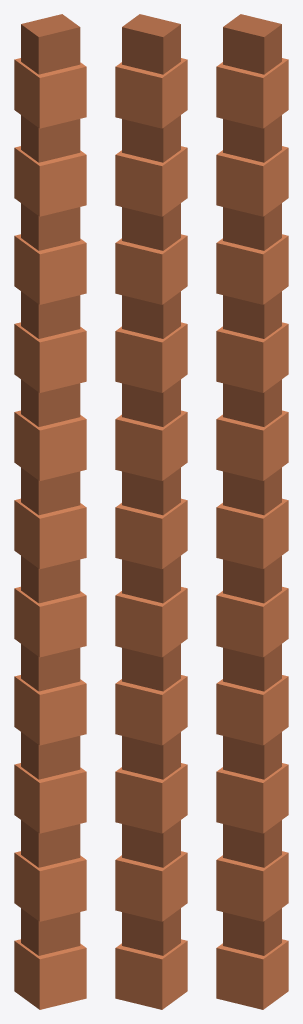
File: village_pack_brick.glb
The picture shows the model from 3 angles, left to right: view 1: azimuth 30°, elevation 25°; view 2: azimuth 150°, elevation 25°; view 3: azimuth 330°, elevation 25°; orthographic projection.
Visible parts, largest first — view 1: brick_brick 1_0; view 2: brick_brick 1_0; view 3: brick_brick 1_0.
Part boxes in pixels (left/top/right/bottom): brick_brick 1_0: left=14, top=14, right=86, bottom=1009; brick_brick 1_0: left=115, top=14, right=187, bottom=1009; brick_brick 1_0: left=216, top=14, right=288, bottom=1009.
Size of the model in its own units: 0.3054 by 6.06 by 0.2873.
